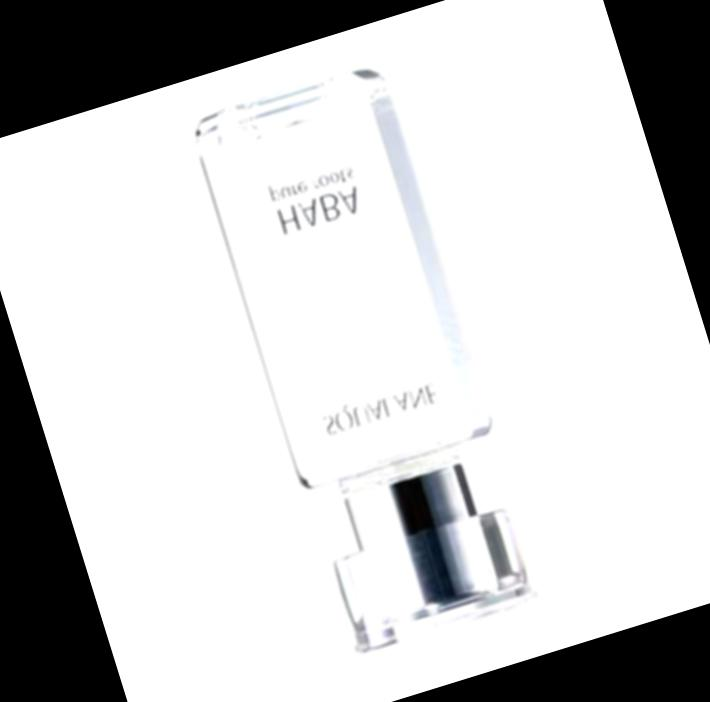cosmetic: (186, 62, 548, 659)
